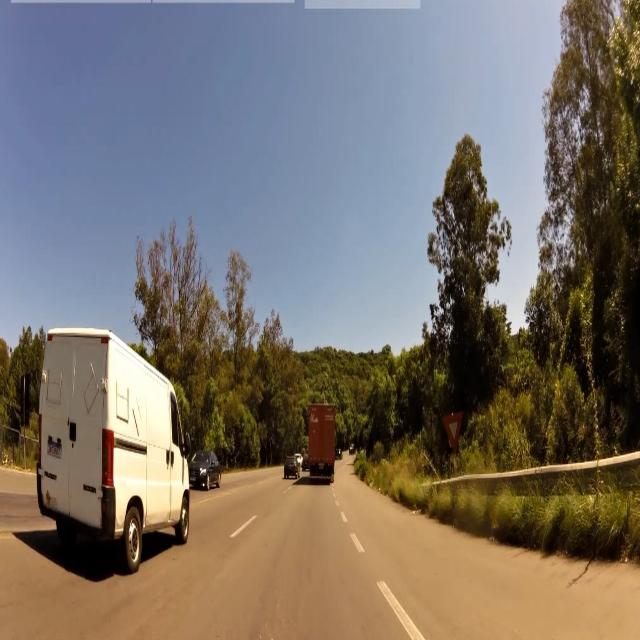R-2: (440, 410, 468, 451)
